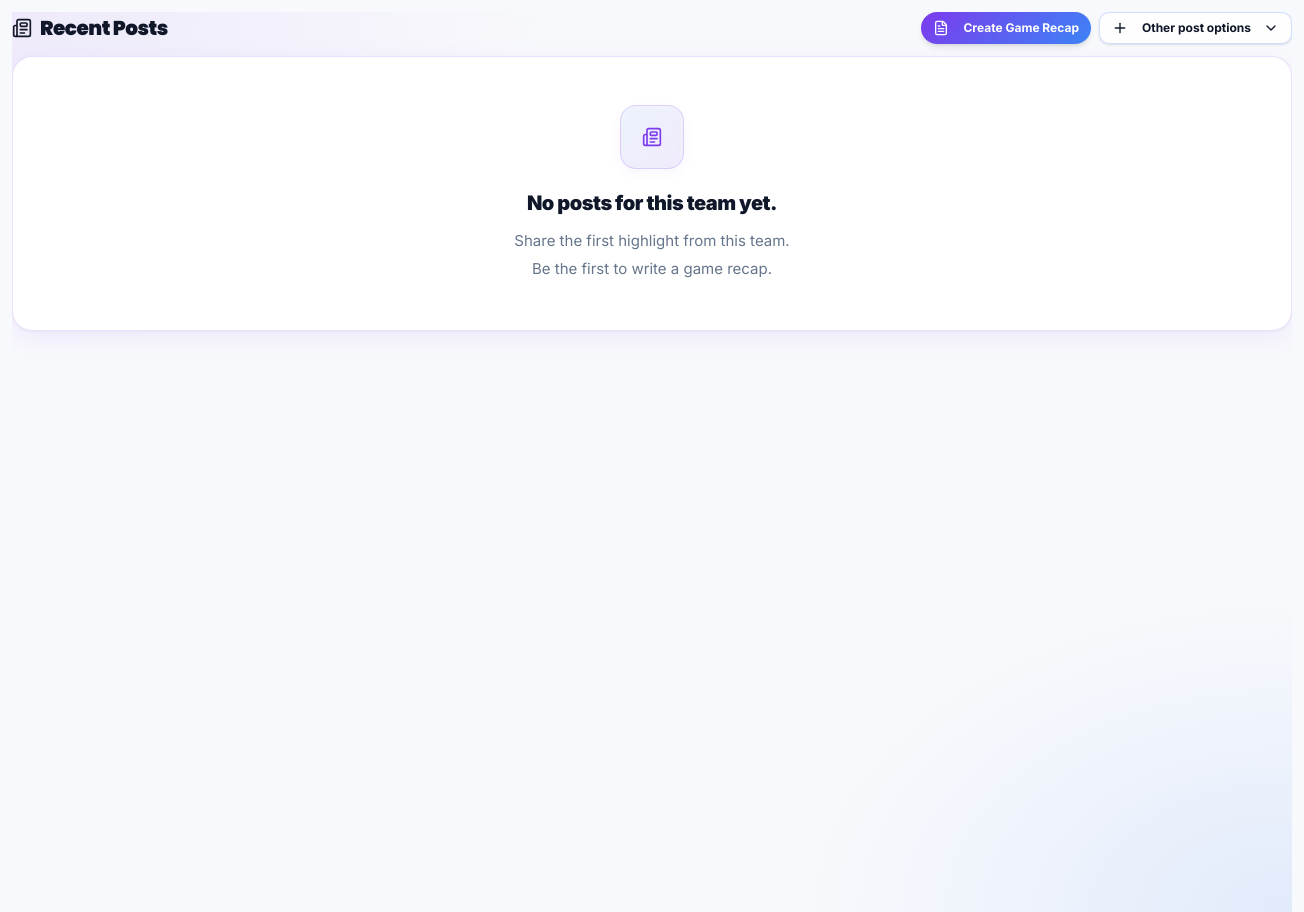
TeamPostsSection action hierarchy › keeps the game recap primary and places the other options in one menu
Later steps or results of the test are not shown.
expect the button with test id "btn-create-recap" is shown: met, box [922, 12, 1091, 44]
expect the element with test id "team-post-actions" does not show "Share": met, box [922, 12, 1292, 44]
Click the button with test id "btn-open-post-options".
click(1196, 28)  # box [1099, 12, 1292, 44]
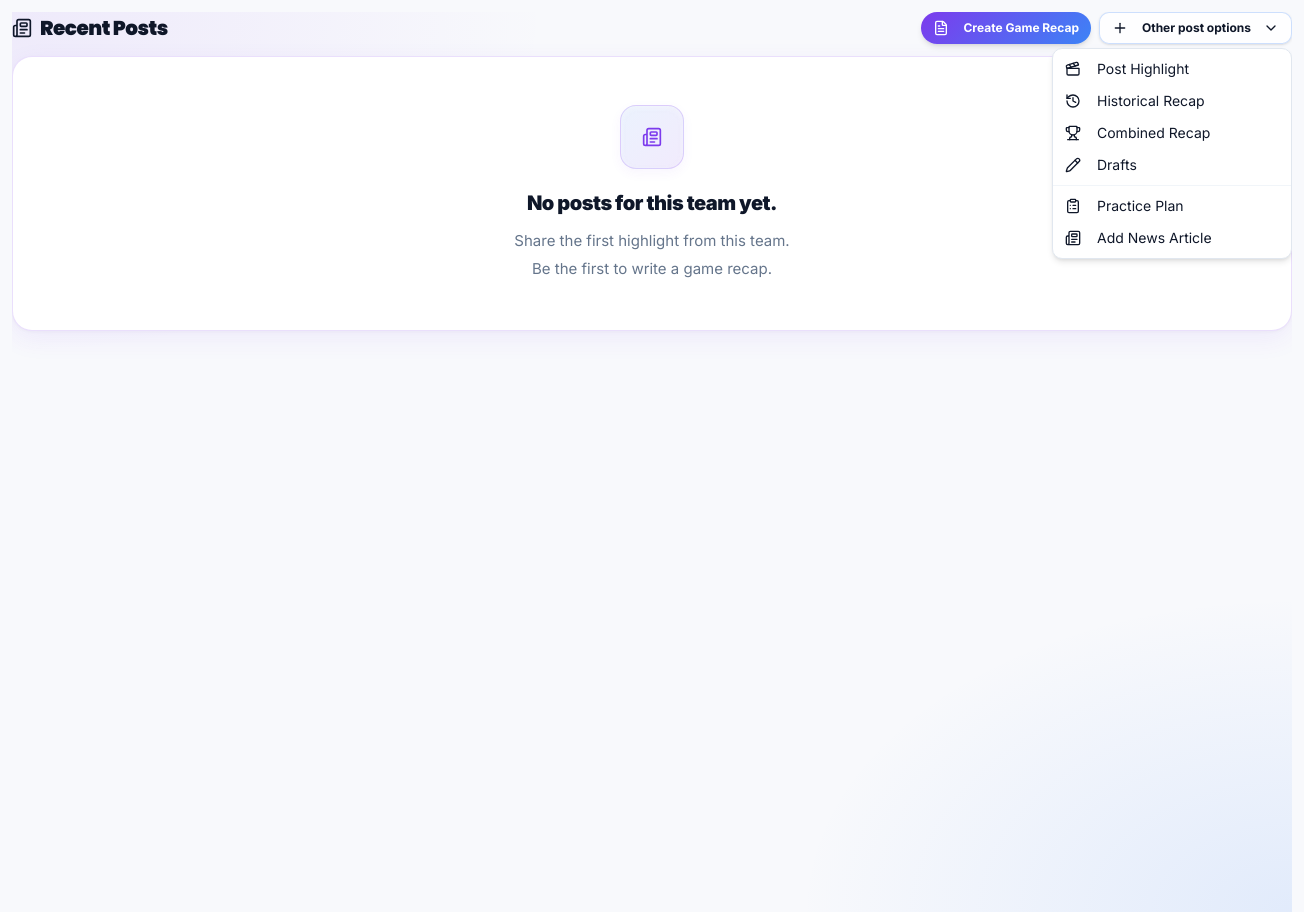
expect the menu item with test id "btn-create-highlight" is shown: met, box [1065, 60, 1189, 77]
expect the menu item with test id "btn-season-recap" is shown: met, box [1065, 124, 1210, 141]
expect the menu item with test id "btn-create-practice-plan" is shown: met, box [1065, 197, 1184, 214]
